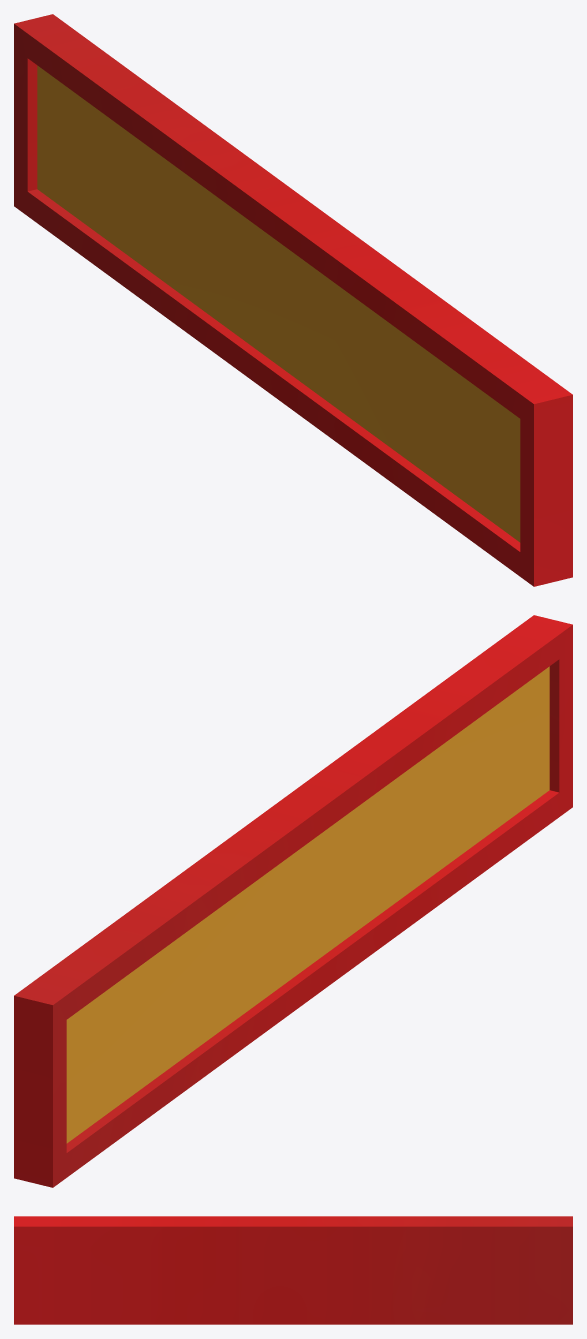
Rendered from SignBoard_1_A.glb.
The picture shows the model from 3 angles, top to bottom: view 1: azimuth 30°, elevation 25°; view 2: azimuth 150°, elevation 25°; view 3: azimuth 270°, elevation 25°; orthographic projection. The views are drawn at different scales.
Visible parts, largest first — view 1: SignBoard_1_A; view 2: SignBoard_1_A; view 3: SignBoard_1_A.
Boxes of the visible parts, bbox=[...] form: SignBoard_1_A: bbox=[14, 14, 572, 586]; SignBoard_1_A: bbox=[14, 615, 572, 1187]; SignBoard_1_A: bbox=[14, 1216, 572, 1324].
Size of the model in its own units: 0.1542 by 0.6905 by 3.56.
Materials: 2 (2 with a texture image).
